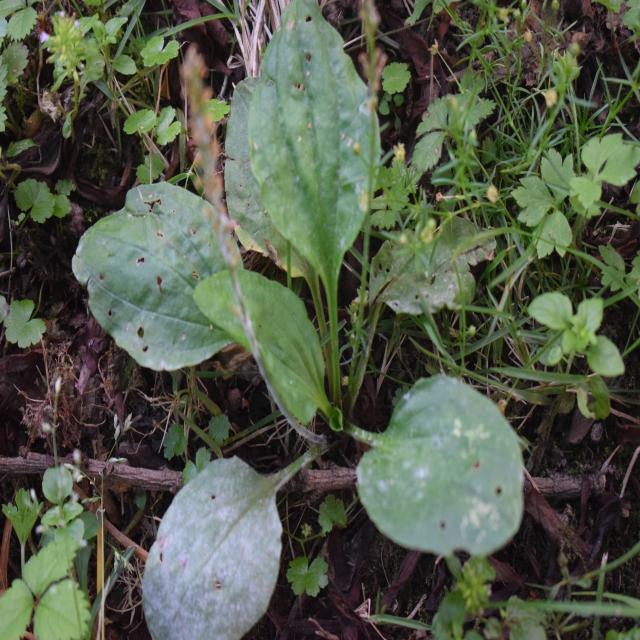plantain: (104, 56, 520, 576)
